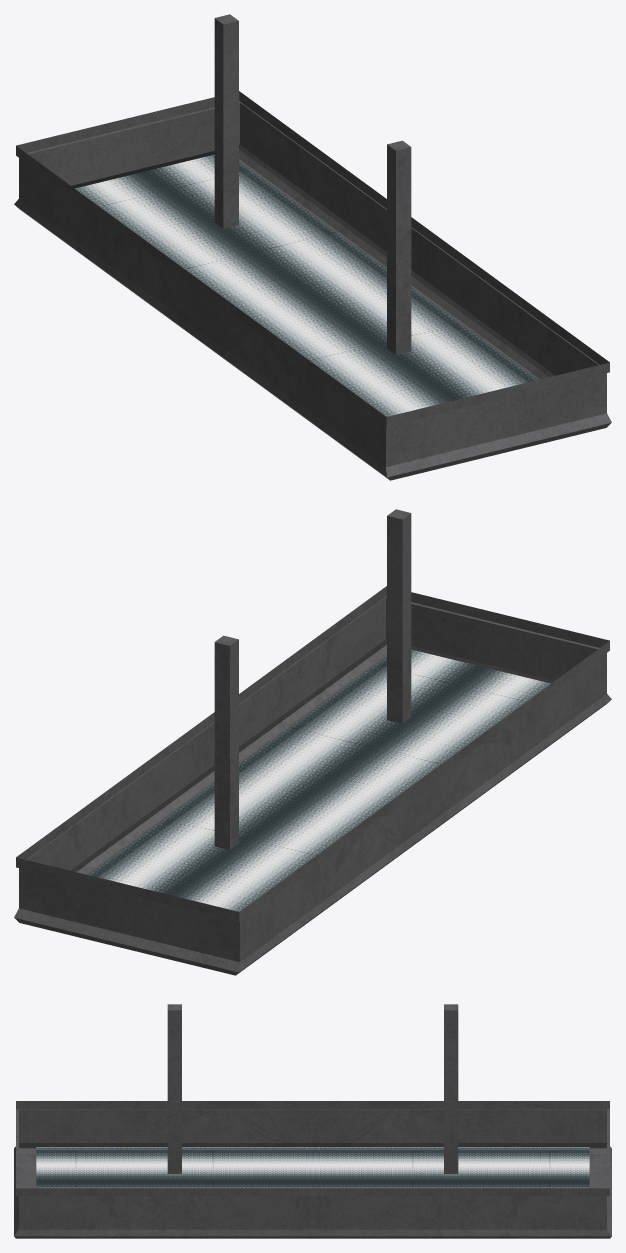
The model's file is ceiling_light.fbx.
3 views of the same model, one above another, from view 1: azimuth 30°, elevation 25°; view 2: azimuth 150°, elevation 25°; view 3: azimuth 270°, elevation 25° (orthographic). The views are drawn at different scales.
Visible parts, largest first — view 1: Ceiling.Light; view 2: Ceiling.Light; view 3: Ceiling.Light.
Part boxes in pixels (left/top/right/bottom): Ceiling.Light: left=14, top=14, right=611, bottom=480; Ceiling.Light: left=14, top=509, right=611, bottom=975; Ceiling.Light: left=14, top=1004, right=611, bottom=1238.
Bounding box in the file's own units: 90.81 × 91.07 × 261.
Materials: 2 (2 with a texture image).
